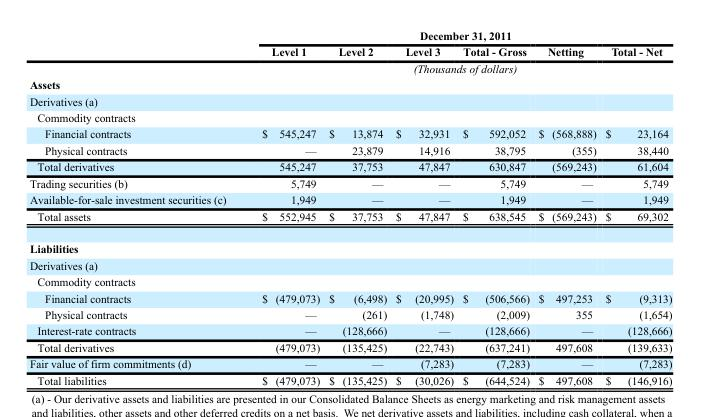table: (28, 28, 671, 386)
table column: (28, 28, 243, 386), (243, 28, 323, 386), (457, 28, 533, 386), (600, 28, 671, 386), (323, 28, 390, 386), (390, 28, 457, 386), (533, 28, 600, 386)
table column header: (28, 28, 671, 76)
table projected row header: (28, 232, 671, 256), (28, 108, 671, 125), (28, 256, 671, 273), (28, 76, 671, 92), (28, 92, 671, 108), (28, 273, 671, 289)
table row: (28, 207, 671, 232), (28, 232, 671, 256), (28, 59, 671, 76), (28, 108, 671, 125), (28, 141, 671, 158), (28, 174, 671, 191), (28, 256, 671, 273), (28, 305, 671, 322), (28, 338, 671, 355), (28, 43, 671, 59), (28, 76, 671, 92), (28, 92, 671, 108), (28, 125, 671, 141), (28, 158, 671, 174), (28, 191, 671, 207), (28, 273, 671, 289), (28, 289, 671, 305), (28, 322, 671, 338), (28, 355, 671, 371), (28, 28, 671, 43), (28, 371, 671, 386)
table spanning cell: (243, 59, 671, 76), (243, 28, 671, 43)
